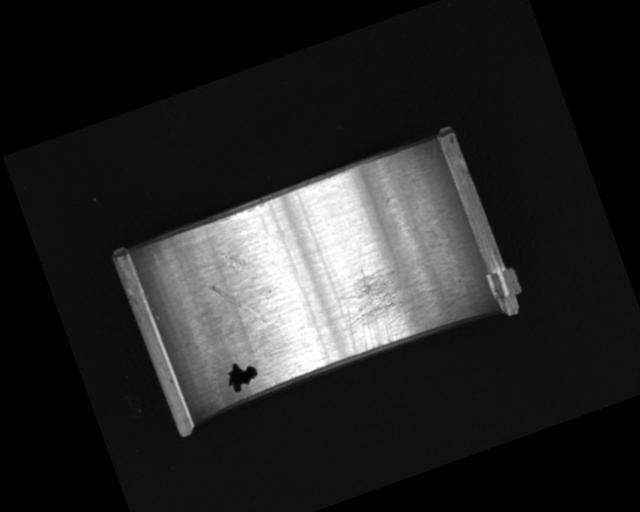blot: (220, 355, 262, 395)
bruise: (218, 244, 248, 275)
nick: (209, 272, 266, 336)
scratch: (326, 239, 467, 357)
